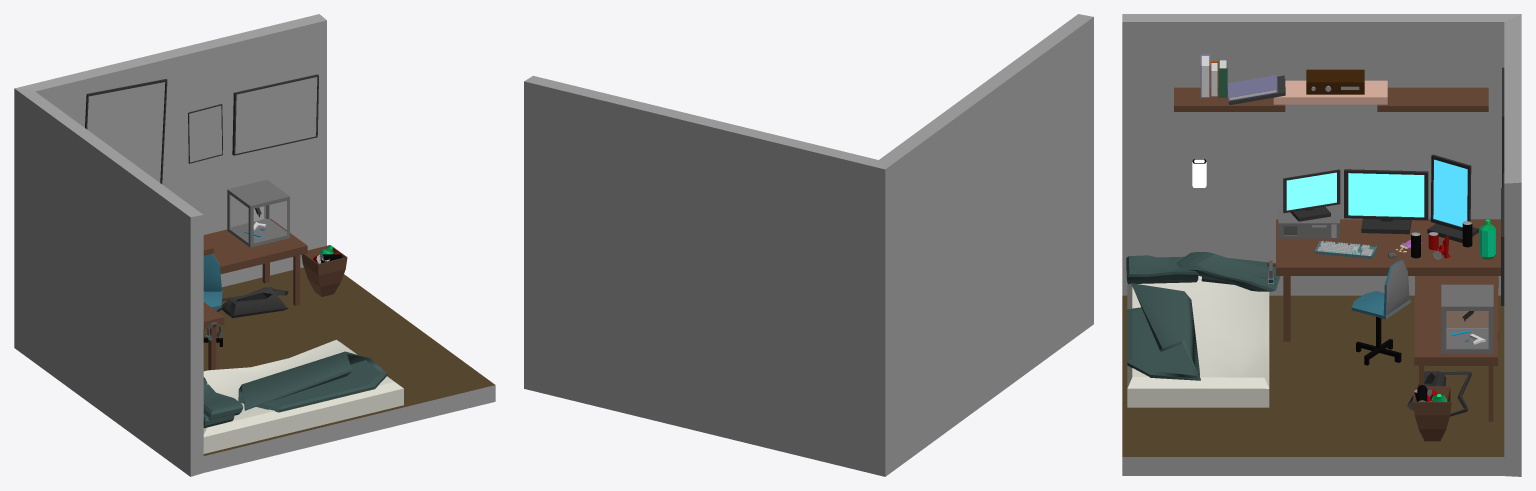
Rendered from Room Objects Export.fbx.
3 renders of one model, left to right at view 1: azimuth 30°, elevation 25°; view 2: azimuth 150°, elevation 25°; view 3: azimuth 270°, elevation 25°, orthographic. The views are drawn at different scales.
Visible parts, largest first — view 1: Room, Bed, Poster2, Poster3, Bed1, Table_2, Printer_3D, Poster1, Bin, Bag, Chair, Pillow3 (+2 smaller); view 2: Room; view 3: Room, Bed, Table_1, Bed1, Table_2, Monitor_2, Monitor_3, Printer_3D, Shel_2, Chair, Monitor_1, Pillow4 (+14 smaller).
Boxes of the visible parts, left/top/right/bottom form: Room: left=14, top=14, right=495, bottom=476; Bed: left=203, top=339, right=403, bottom=453; Poster2: left=85, top=79, right=167, bottom=183; Poster3: left=232, top=74, right=318, bottom=155; Bed1: left=238, top=351, right=387, bottom=412; Table_2: left=203, top=219, right=307, bottom=305; Printer_3D: left=227, top=180, right=289, bottom=247; Poster1: left=188, top=104, right=222, bottom=163; Bin: left=301, top=245, right=347, bottom=296; Bag: left=217, top=287, right=288, bottom=317; Chair: left=203, top=254, right=222, bottom=346; Pillow3: left=203, top=384, right=243, bottom=419; Room: left=524, top=14, right=1093, bottom=476; Room: left=1122, top=14, right=1521, bottom=476; Bed: left=1127, top=275, right=1269, bottom=407; Table_1: left=1276, top=219, right=1500, bottom=341; Bed1: left=1127, top=283, right=1200, bottom=380; Table_2: left=1414, top=276, right=1498, bottom=421; Monitor_2: left=1344, top=169, right=1428, bottom=234; Monitor_3: left=1427, top=154, right=1478, bottom=242; Printer_3D: left=1441, top=284, right=1493, bottom=353; Shel_2: left=1377, top=87, right=1488, bottom=111; Chair: left=1351, top=259, right=1410, bottom=365; Monitor_1: left=1283, top=169, right=1340, bottom=221; Pillow4: left=1176, top=252, right=1280, bottom=291.
Size of the model in its own units: 1.07 by 0.8697 by 1.07.
